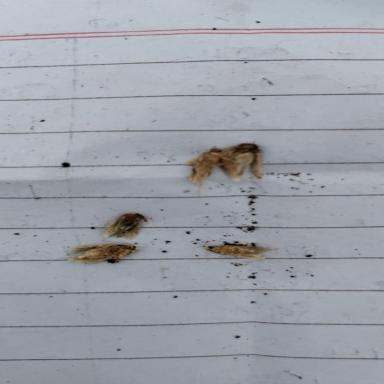pbw: (65, 240, 140, 265), (182, 146, 228, 186), (217, 140, 263, 179), (101, 211, 147, 240), (204, 243, 280, 260)
